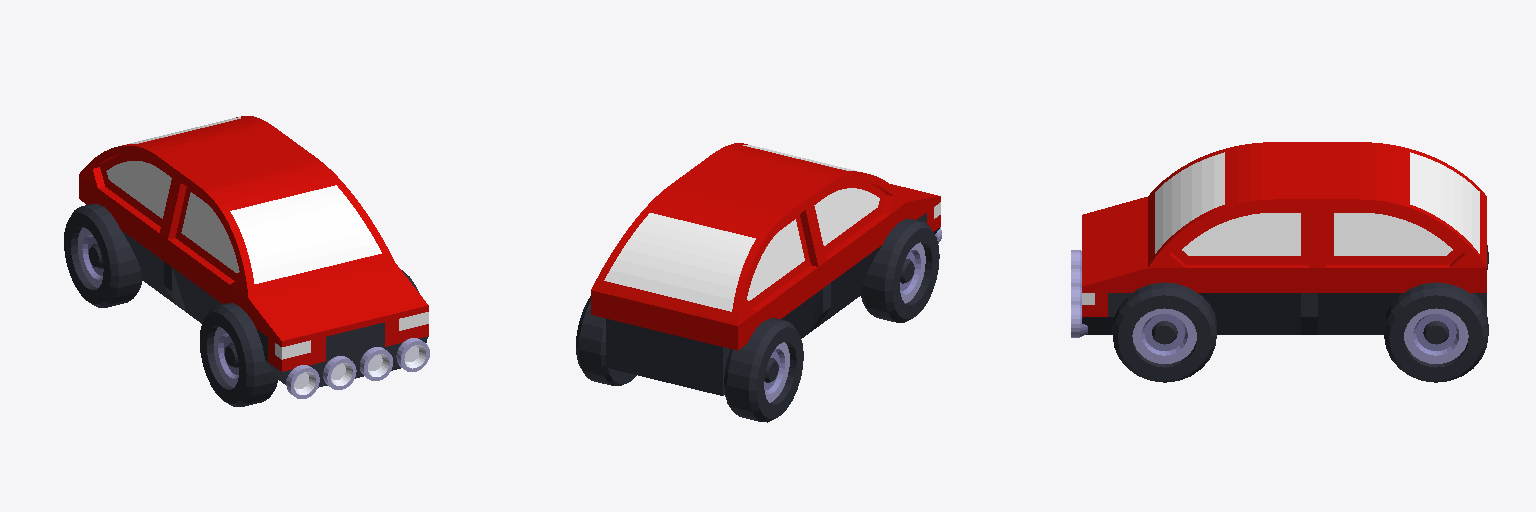
File: car1.obj
3 views of the same model, side by side, from view 1: azimuth 30°, elevation 25°; view 2: azimuth 150°, elevation 25°; view 3: azimuth 270°, elevation 25° (orthographic).
Parts seen in each view (by area): view 1: mergedBlocks; view 2: mergedBlocks; view 3: mergedBlocks.
Boxes of the visible parts, x1,y1,x2,y2 form: mergedBlocks: [64, 116, 429, 406]; mergedBlocks: [576, 143, 941, 422]; mergedBlocks: [1071, 142, 1488, 382].
Size of the model in its own units: 1.23 by 1.11 by 2.46.